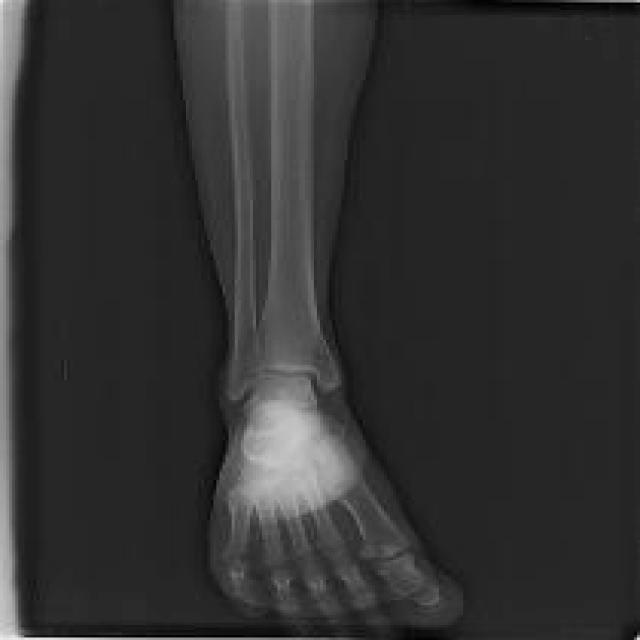normal: (212, 0, 459, 622)
